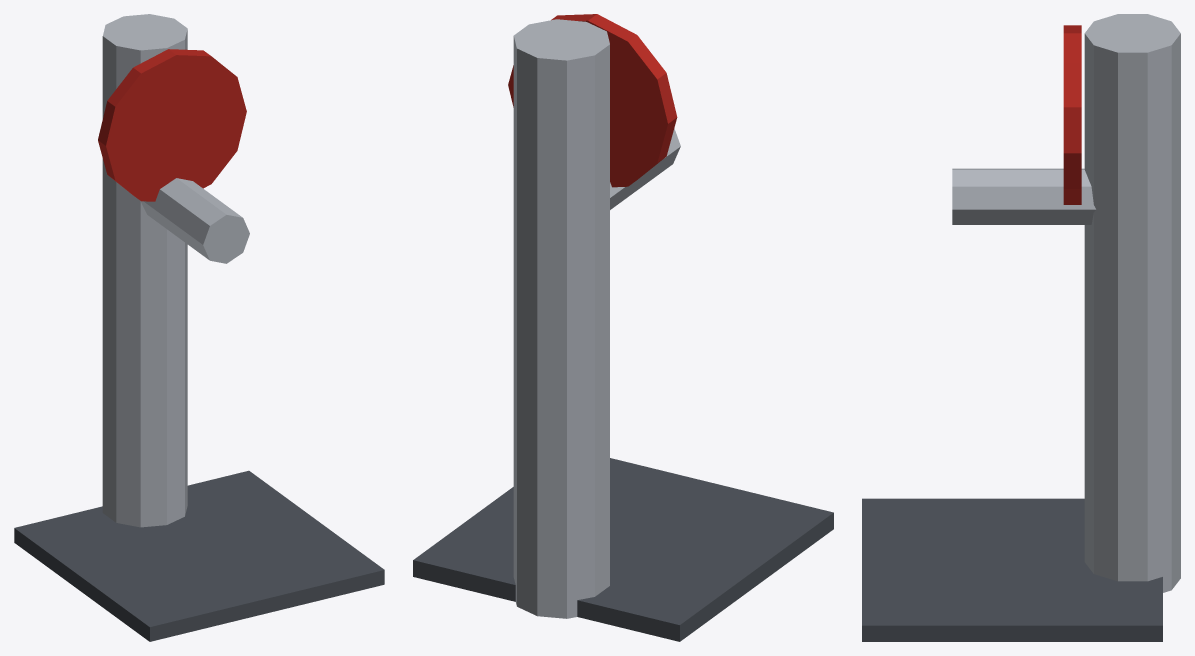
The model's file is water tower tap.glb.
3 views of the same model, side by side, from view 1: azimuth 30°, elevation 25°; view 2: azimuth 150°, elevation 25°; view 3: azimuth 270°, elevation 25° (orthographic). The views are drawn at different scales.
Visible parts, largest first — view 1: water tower tap; view 2: water tower tap; view 3: water tower tap.
Boxes of the visible parts, x1,y1,x2,y2 form: water tower tap: (14,14,384,641); water tower tap: (413,14,833,641); water tower tap: (862,14,1180,641).
Size of the model in its own units: 0.5 by 1 by 0.53.
